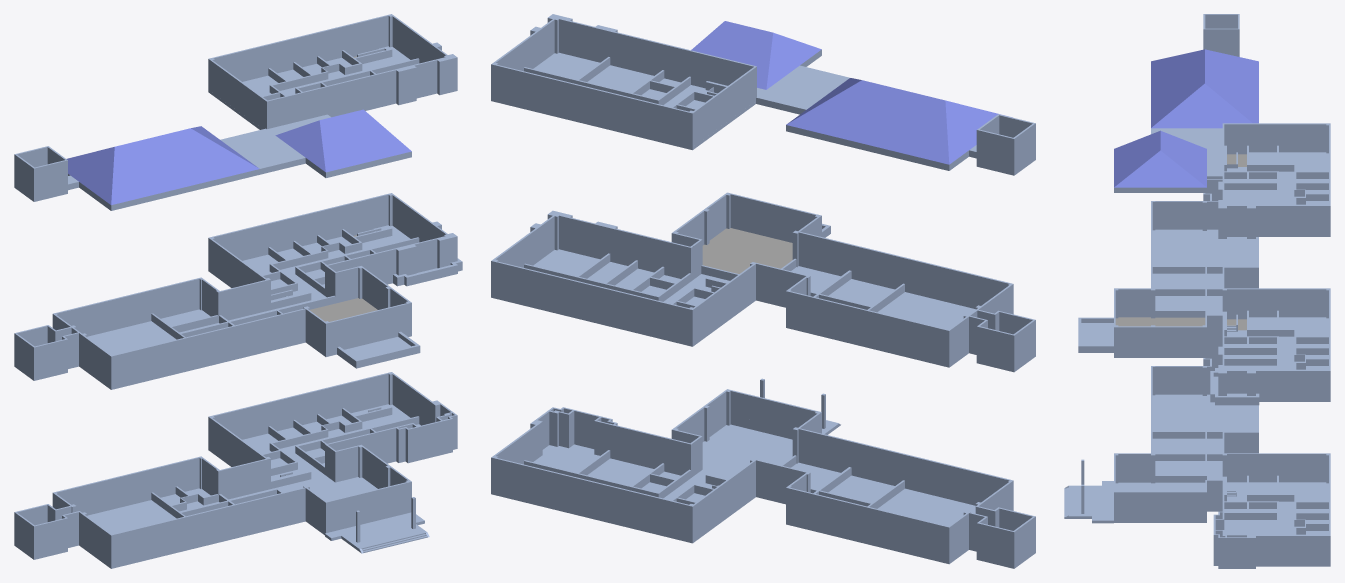
The model's file is Administration_Complex_expansion.glb.
3 views of the same model, side by side, from view 1: azimuth 30°, elevation 25°; view 2: azimuth 150°, elevation 25°; view 3: azimuth 270°, elevation 25° (orthographic). The views are drawn at different scales.
Parts seen in each view (by area): view 1: Floor2, Floor1, Floor3; view 2: Floor2, Floor1, Floor3; view 3: Floor2, Floor1, Floor3.
Part boxes in pixels (x1,y1,x2,y2): Floor2: (14, 372, 457, 568); Floor1: (14, 193, 462, 389); Floor3: (14, 14, 457, 210); Floor2: (491, 378, 1035, 568); Floor1: (491, 192, 1035, 372); Floor3: (491, 14, 1035, 175); Floor2: (1064, 346, 1330, 568); Floor1: (1078, 179, 1330, 405); Floor3: (1114, 14, 1330, 238).
Size of the model in its own units: 62.55 by 54 by 36.
